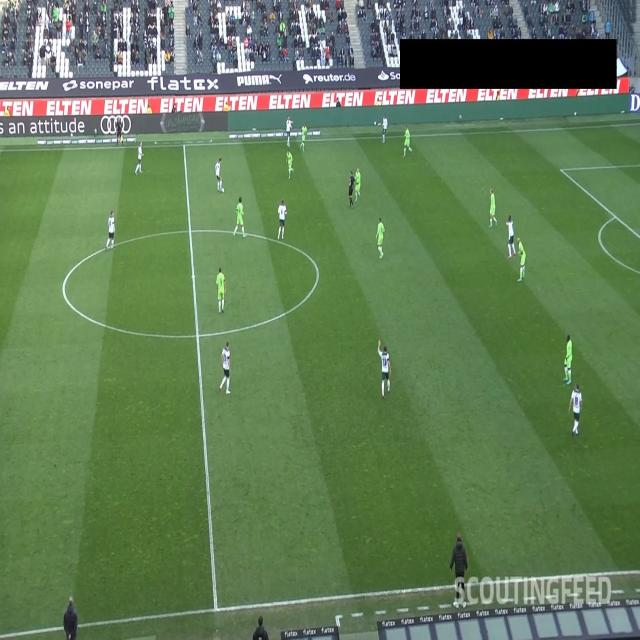ball: (221, 187, 225, 194)
